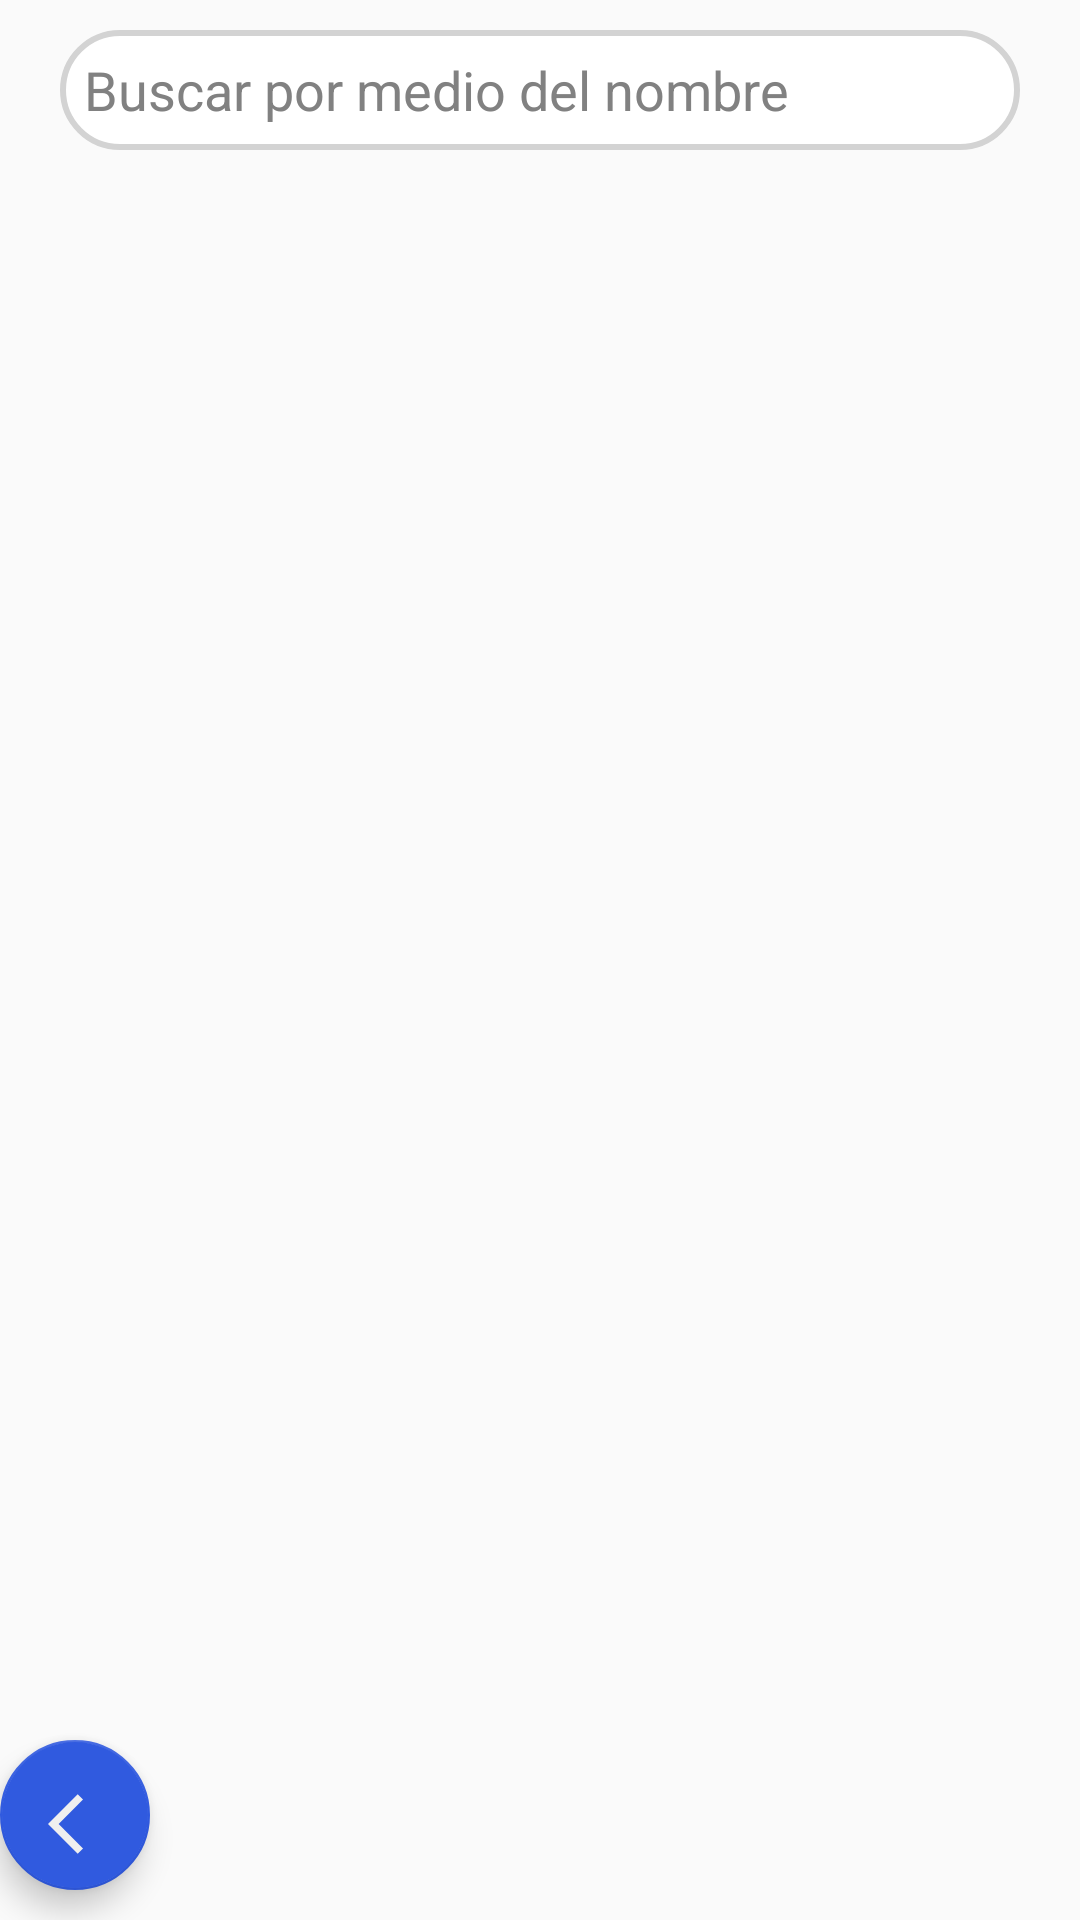

Where to tap for icons on this 1080×1920 app screen, as [x,y]:
arrow back: [75,1815]
